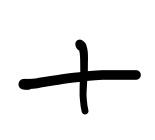plus: (19, 40, 141, 115)
